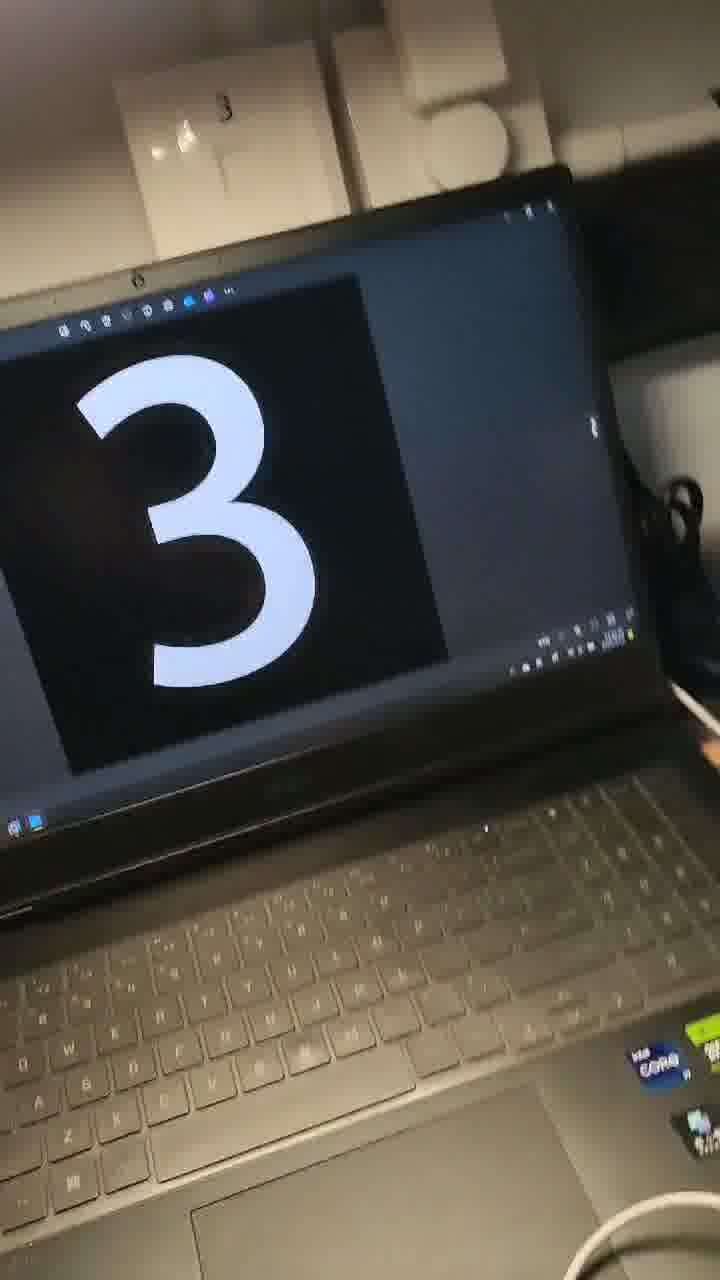three: (75, 323, 391, 739)
